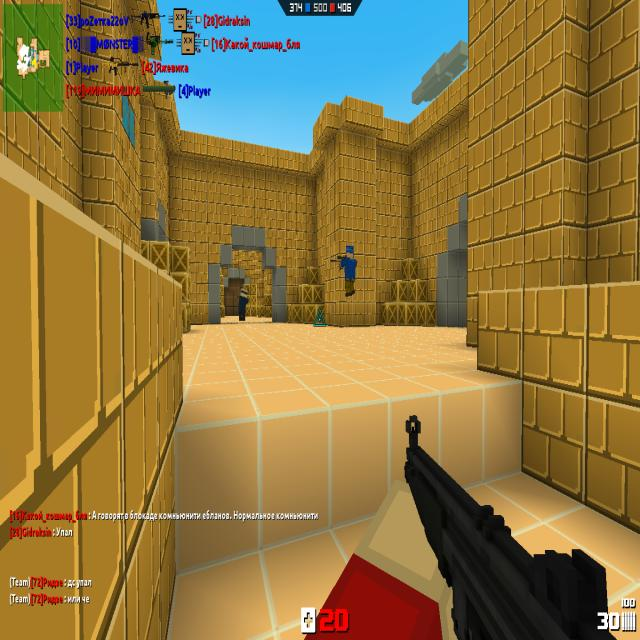enemy: (339, 245, 357, 298), (238, 288, 248, 321)
